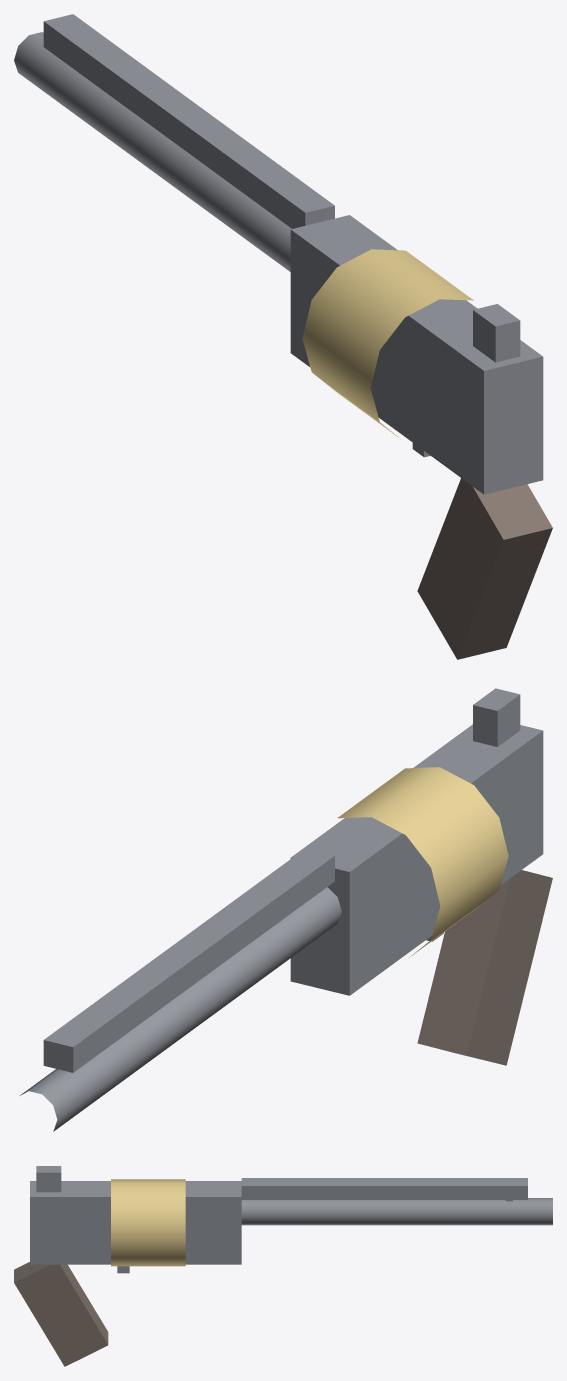
File: wingman_reference.glb
The picture shows the model from 3 angles, top to bottom: view 1: azimuth 30°, elevation 25°; view 2: azimuth 150°, elevation 25°; view 3: azimuth 270°, elevation 25°; orthographic projection. The views are drawn at different scales.
Parts seen in each view (by area): view 1: frame, grip, barrel_top, cylinder, barrel, hammer; view 2: frame, grip, barrel_top, barrel, cylinder, hammer; view 3: frame, barrel, cylinder, barrel_top, grip, hammer.
Boxes of the visible parts, x1=… form: frame: x1=290, y1=215, x2=543, y2=494; grip: x1=417, y1=478, x2=552, y2=659; barrel_top: x1=43, y1=14, x2=334, y2=228; cylinder: x1=302, y1=249, x2=473, y2=439; barrel: x1=14, y1=32, x2=291, y2=271; hammer: x1=473, y1=304, x2=520, y2=362; frame: x1=290, y1=724, x2=543, y2=995; grip: x1=417, y1=870, x2=552, y2=1065; barrel_top: x1=43, y1=848, x2=334, y2=1072; barrel: x1=19, y1=887, x2=341, y2=1131; cylinder: x1=337, y1=767, x2=508, y2=958; hammer: x1=473, y1=688, x2=520, y2=746; frame: x1=30, y1=1181, x2=241, y2=1264; barrel: x1=241, y1=1198, x2=552, y2=1225; cylinder: x1=111, y1=1179, x2=185, y2=1266; barrel_top: x1=241, y1=1178, x2=527, y2=1199; grip: x1=14, y1=1262, x2=108, y2=1366; hammer: x1=36, y1=1166, x2=61, y2=1192.
Size of the model in its own units: 0.14 by 0.3388 by 0.8659.
